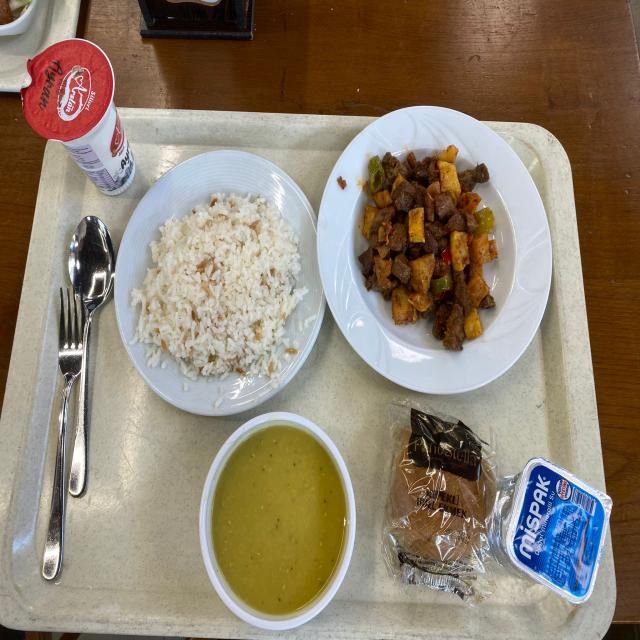ana_yemek: (338, 133, 521, 375), (133, 168, 325, 394)
corba: (205, 431, 350, 620)
